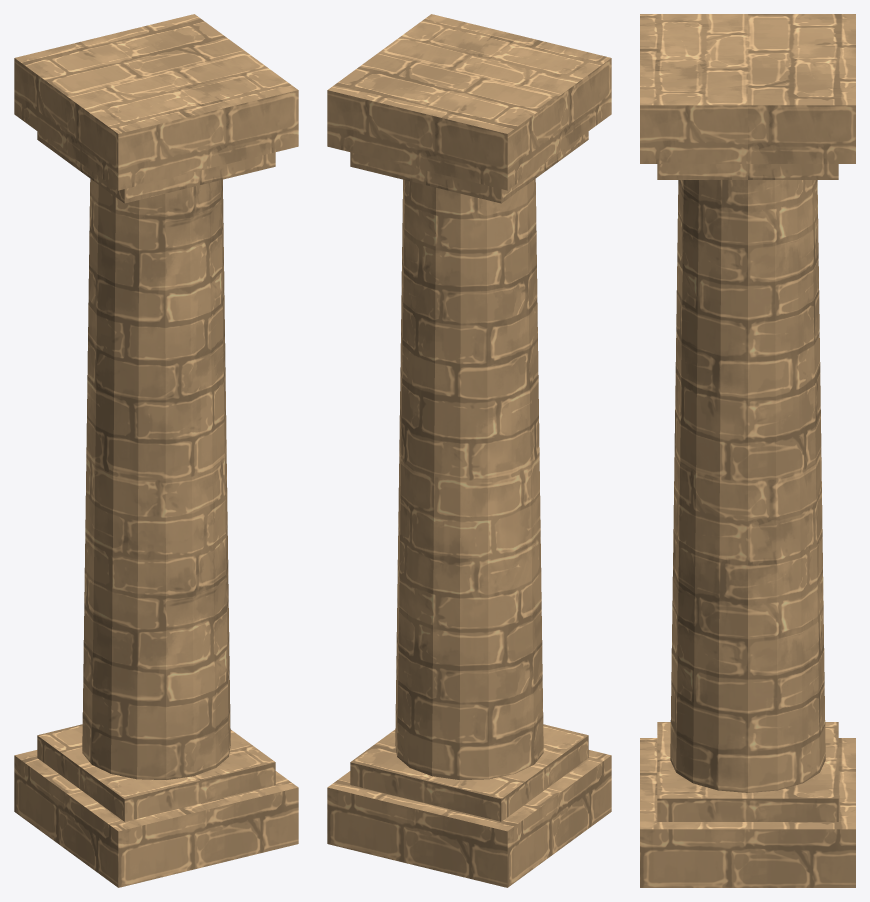
Rendered from column.gltf.
The picture shows the model from 3 angles, left to right: view 1: azimuth 30°, elevation 25°; view 2: azimuth 150°, elevation 25°; view 3: azimuth 270°, elevation 25°; orthographic projection. The views are drawn at different scales.
Parts seen in each view (by area): view 1: column; view 2: column; view 3: column.
Boxes of the visible parts, x1,y1,x2,y2 form: column: [14, 14, 298, 887]; column: [327, 14, 611, 887]; column: [640, 14, 855, 887].
Size of the model in its own units: 1 by 4 by 1.
1 material, 1 textured.
